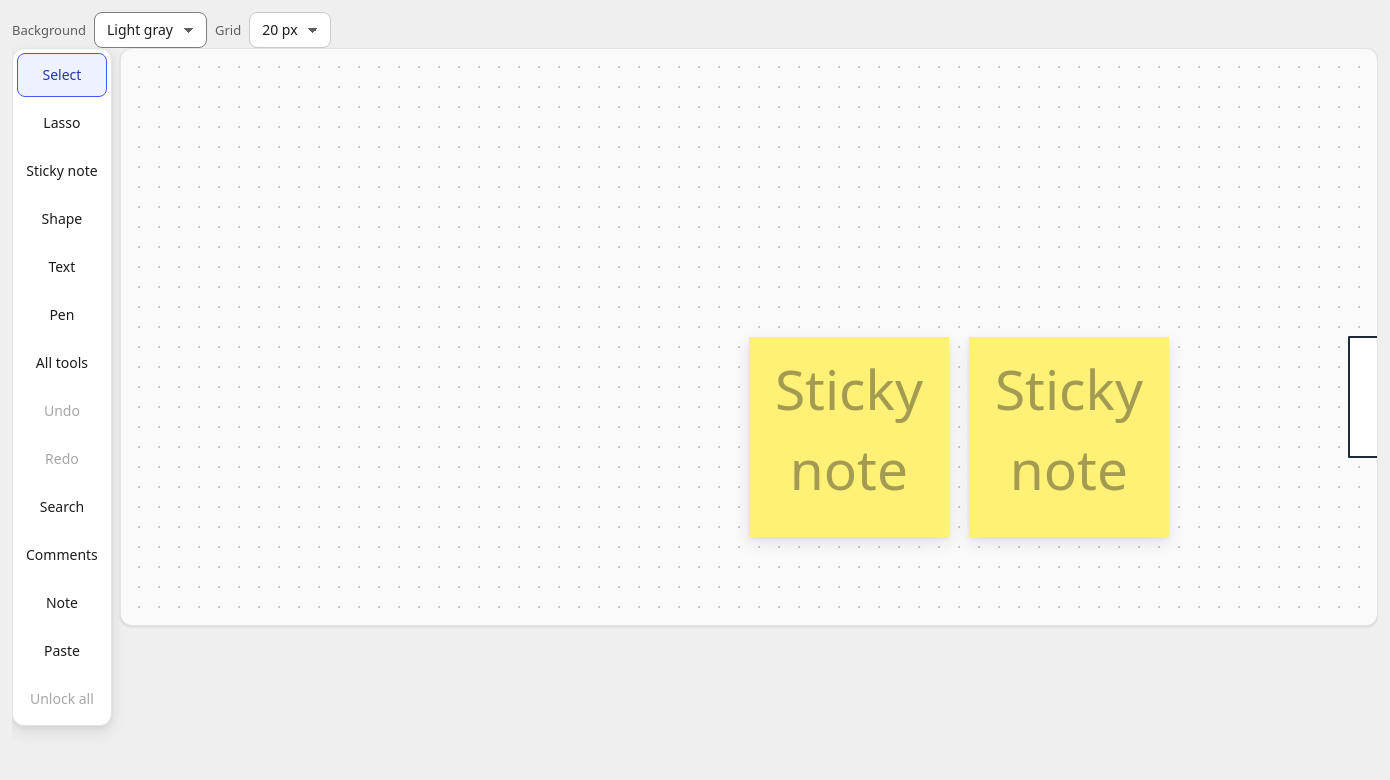
CVS-15: выравнивание и распределение › выравнивание недоступно для одного объекта
Press the mouse on the 1st element showing "Sticky note" at (849, 437), box [749,337,949,537]
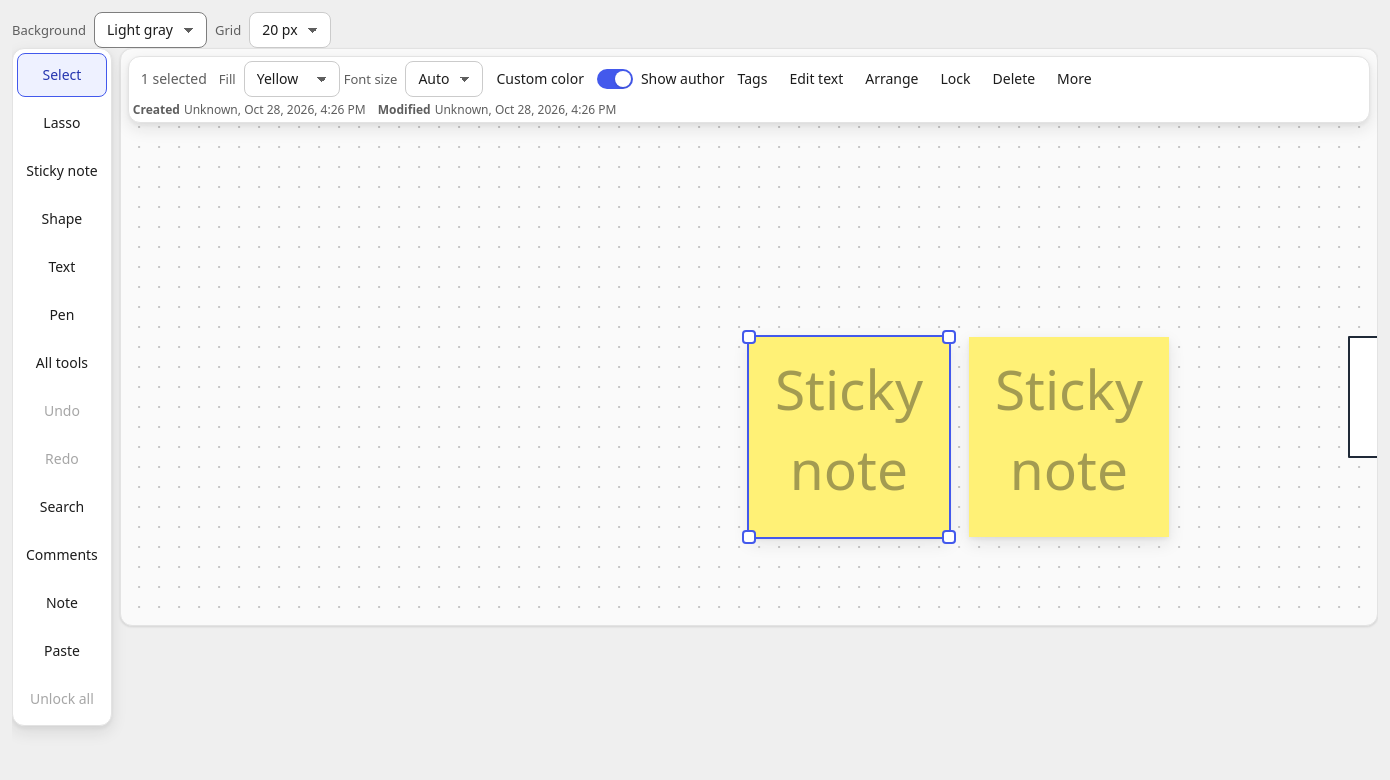
Click the button "Arrange" at (892, 79), box [856,61,928,97]
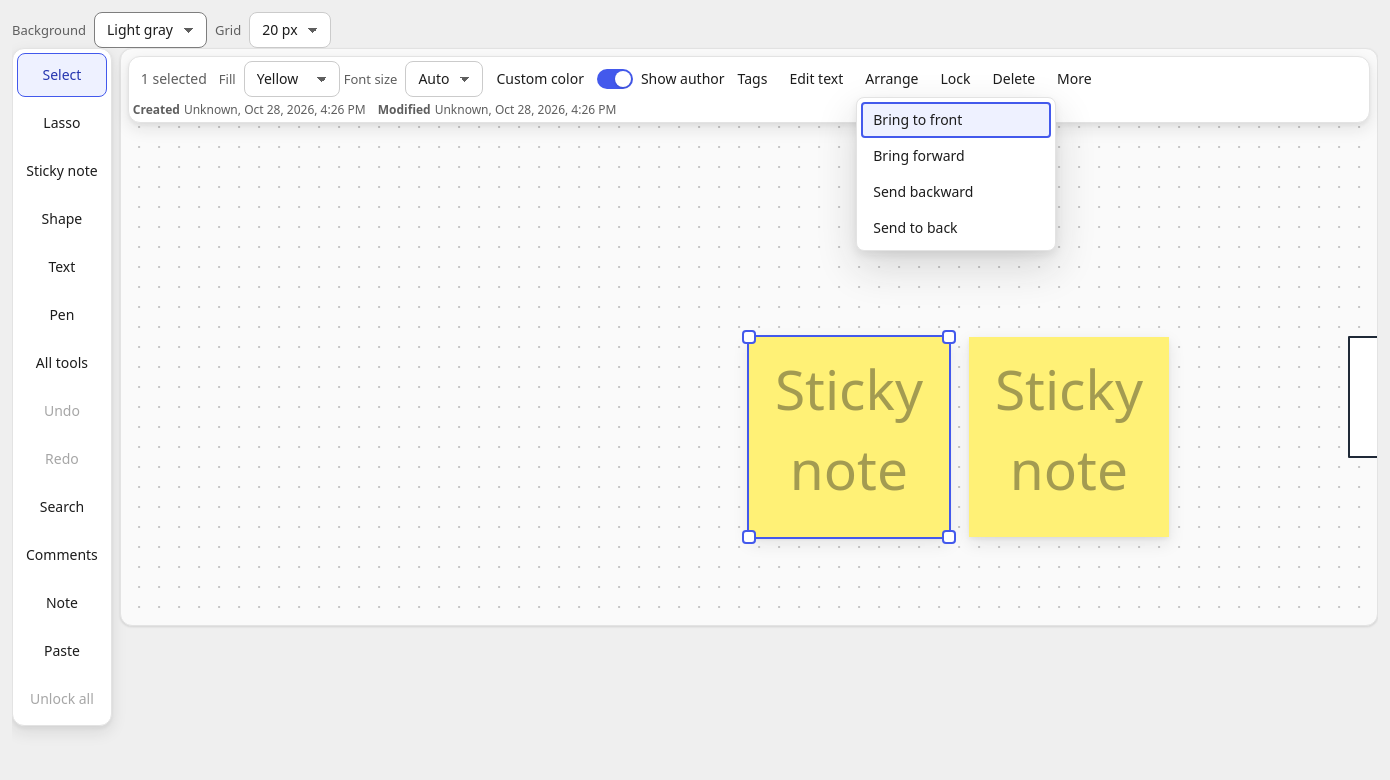
Now the menu item "Bring to front" is shown, box [861,102,1051,138]
